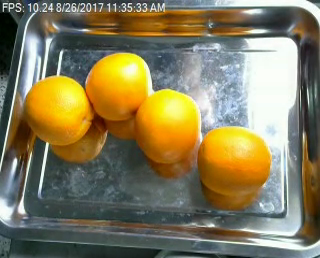Orange: (199, 124, 273, 195), (135, 87, 201, 160), (23, 76, 92, 145), (84, 51, 153, 119)
